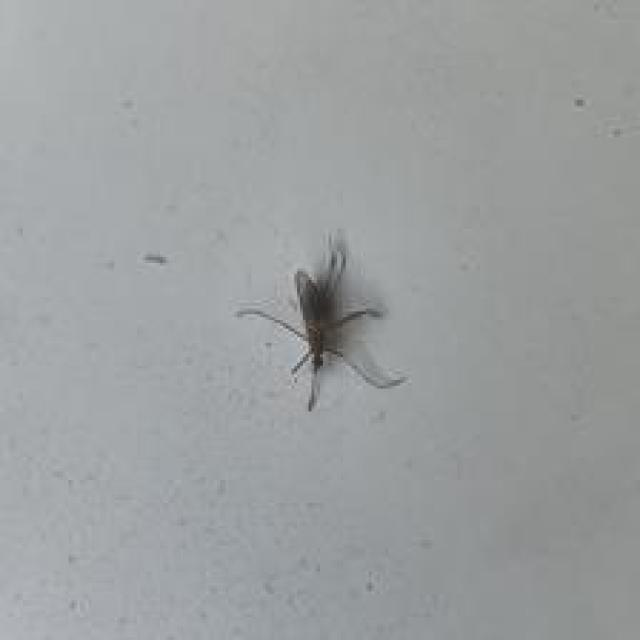Culex: (234, 230, 409, 413)
